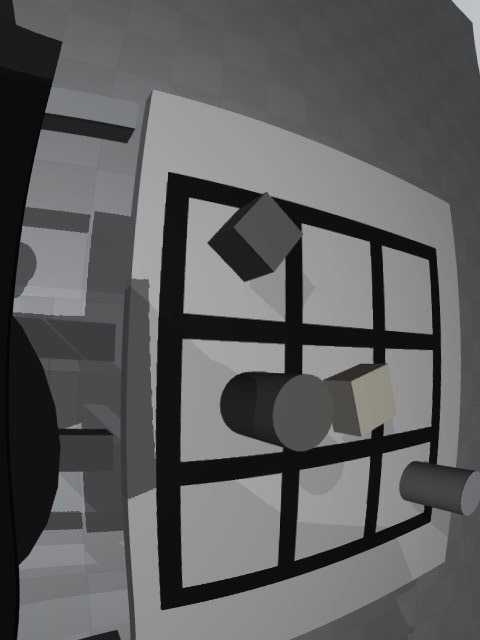can: (399, 461, 480, 516)
cube: (207, 192, 303, 282)
cylinder: (220, 372, 334, 452)
foam: (323, 363, 397, 437)
